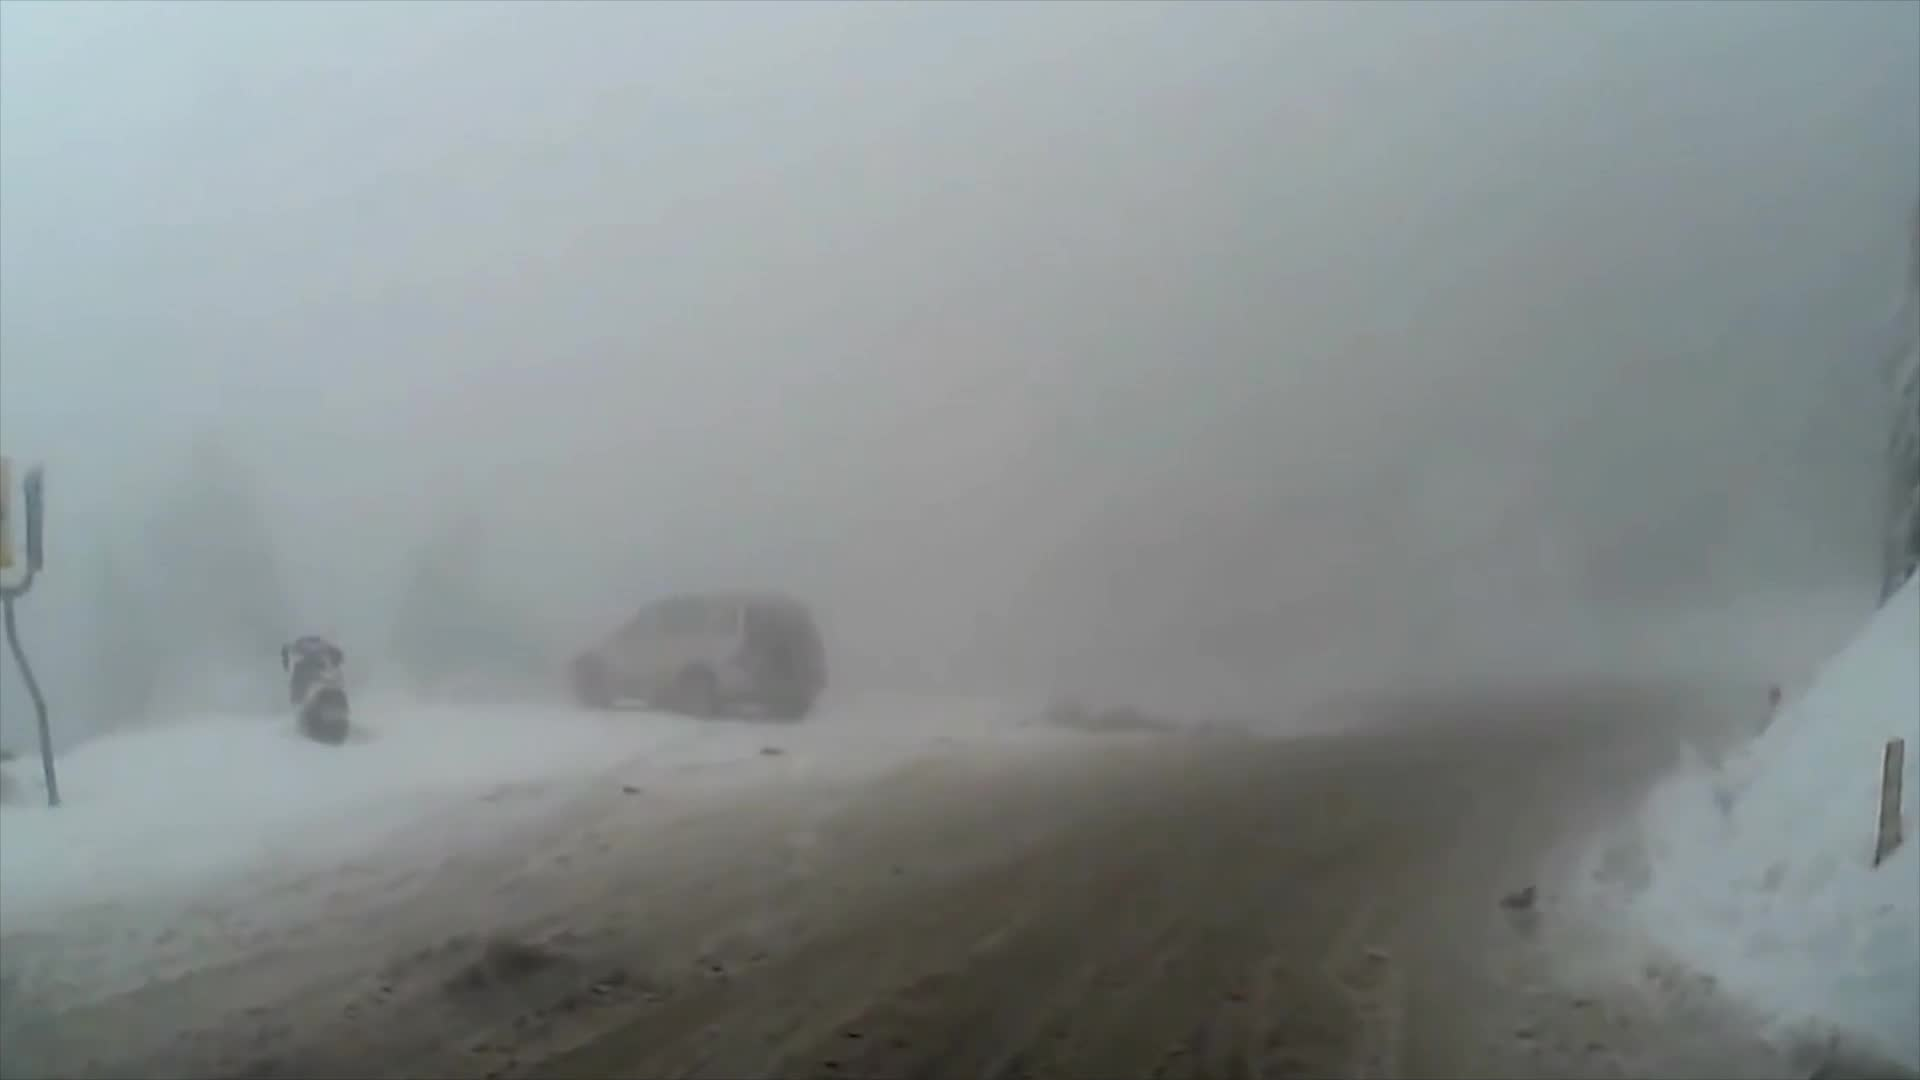vehicle: (564, 589, 822, 720)
